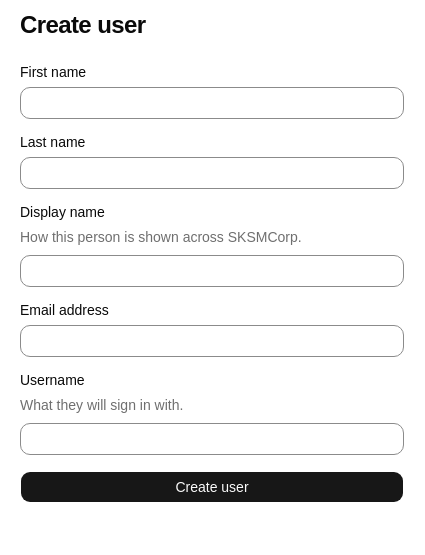
Test case: a username that is available › still shows the server's refusal at submit, word for word
Step 1. Type "Ada" into the field labelled "First name" → {"x": 212, "y": 103}, box [20,87,404,119]
Step 2. Type "Lovelace" into the field labelled "Last name" → {"x": 212, "y": 173}, box [20,157,404,189]
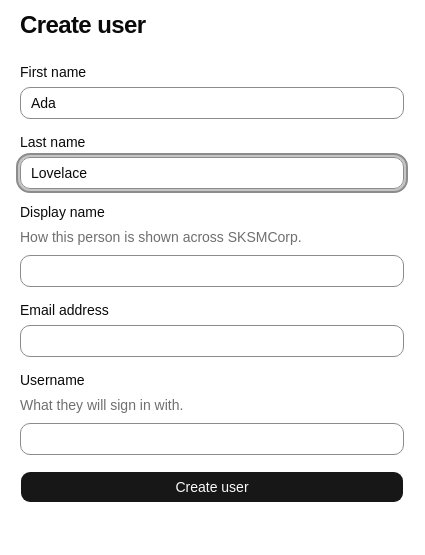
Step 3. Type "Ada Lovelace" into the field labelled "Display name" → {"x": 212, "y": 271}, box [20,255,404,287]
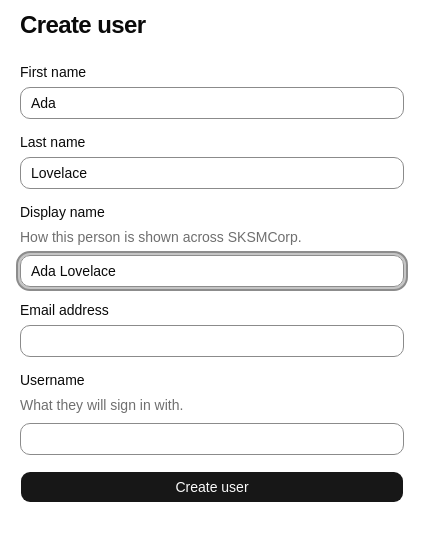
Step 4. Type "ada@example.test" into the field labelled "Email address" → {"x": 212, "y": 341}, box [20,325,404,357]
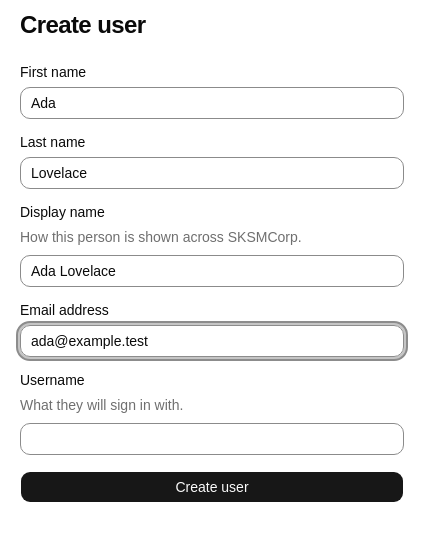
Step 5. Type "ada.lovelace" into the field labelled "Username" → {"x": 212, "y": 439}, box [20,423,404,455]
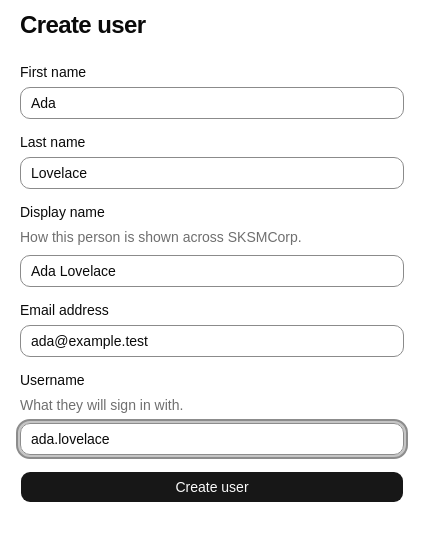
Step 6. Press Tab
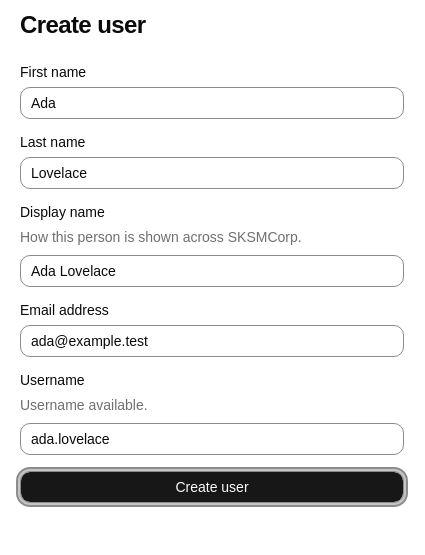
Now the text "Username available." is shown, box [20,397,148,413]
Step 7. Click the button "Create user" → {"x": 212, "y": 487}, box [20,471,404,503]
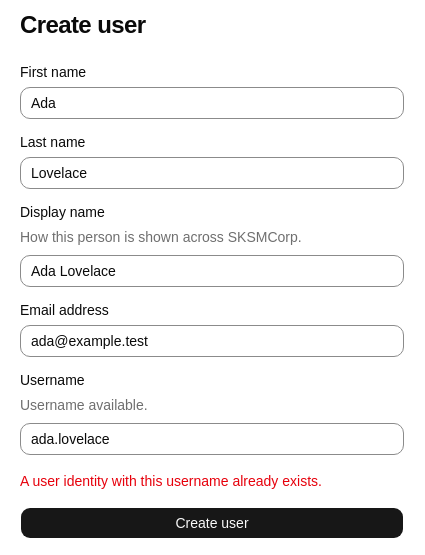
Now the text "A user identity with this username already exists." is shown, box [20,473,322,489]
